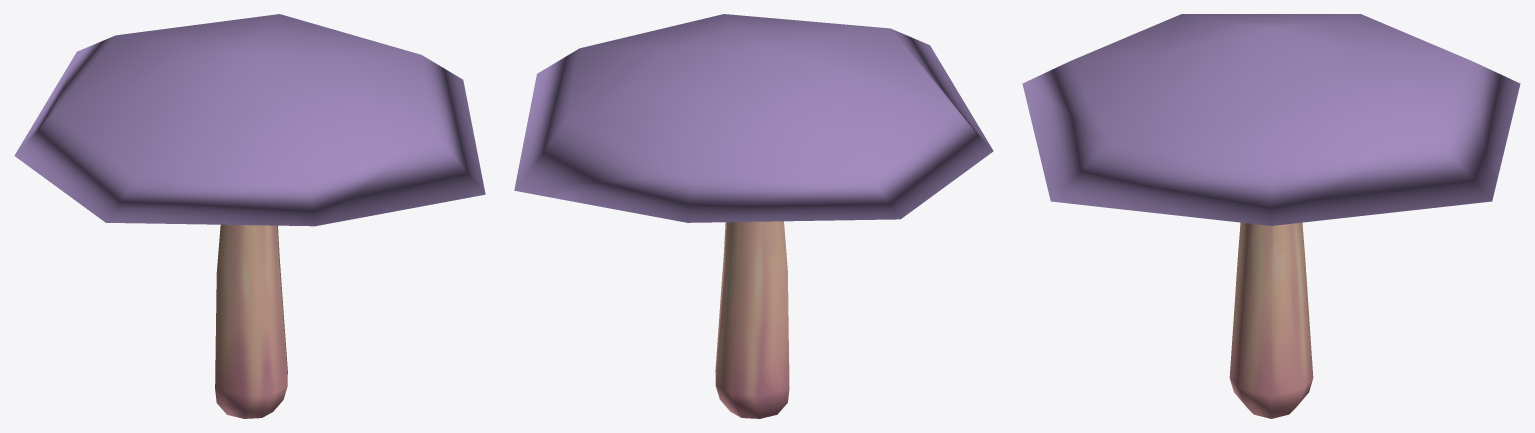
File: MD_mushroom_Nomal_L.fbx
3 views of the same model, side by side, from view 1: azimuth 30°, elevation 25°; view 2: azimuth 150°, elevation 25°; view 3: azimuth 270°, elevation 25° (orthographic). The views are drawn at different scales.
Visible parts, largest first — view 1: mushroom_Nomal_L1; view 2: mushroom_Nomal_L1; view 3: mushroom_Nomal_L1.
Boxes of the visible parts, x1,y1,x2,y2 form: mushroom_Nomal_L1: [14, 14, 485, 418]; mushroom_Nomal_L1: [514, 14, 993, 418]; mushroom_Nomal_L1: [1022, 14, 1520, 418].
Size of the model in its own units: 2857 by 2424 by 2927.
1 material, 1 textured.
